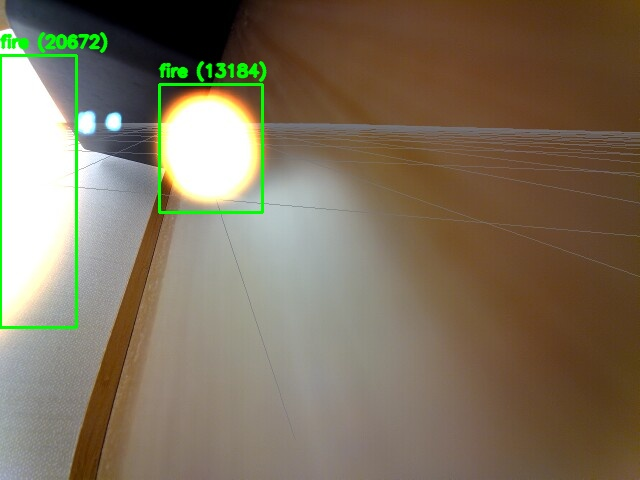fire: (0, 55, 76, 327), (159, 84, 262, 212)
